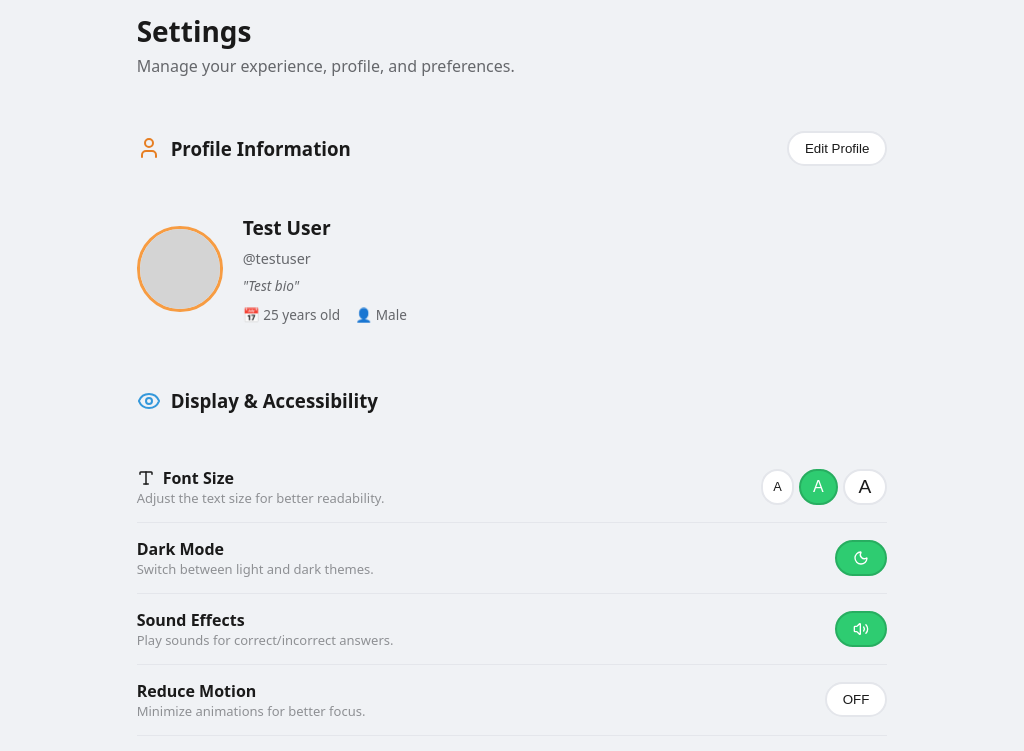
Test: Settings Component Tests › Should toggle edit profile mode
This screenshot has width=1024, height=751.
Step 1. Click the button "Edit Profile" → [837, 148], box [787,131,887,166]
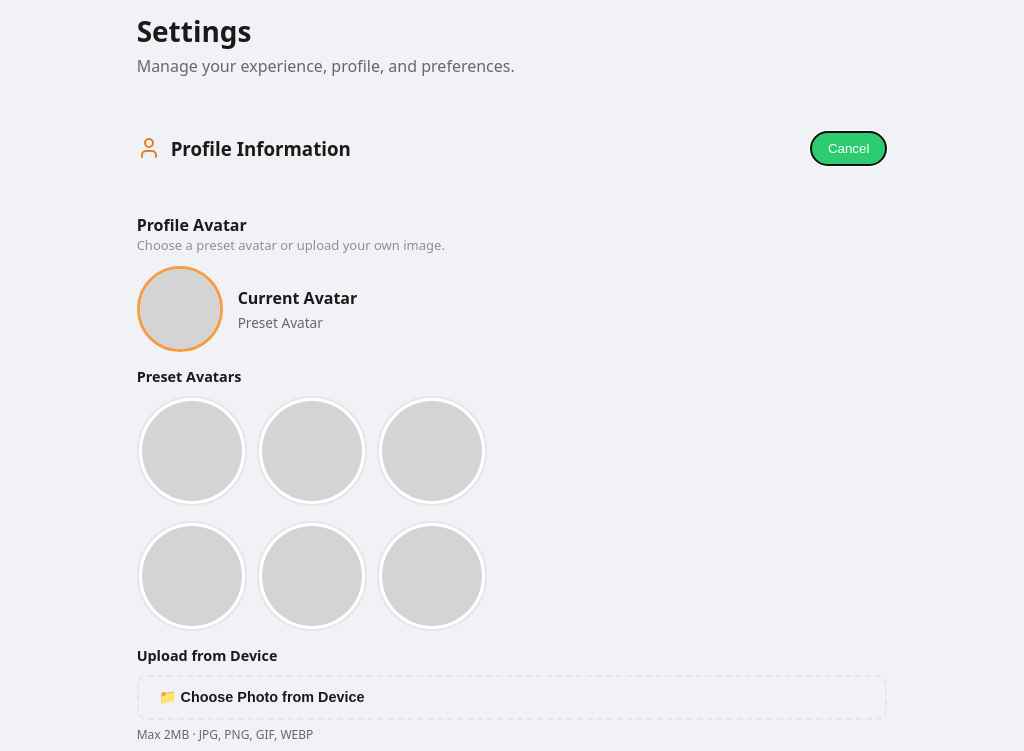
Check: the button "Cancel" is shown, box [810,131,887,166]
